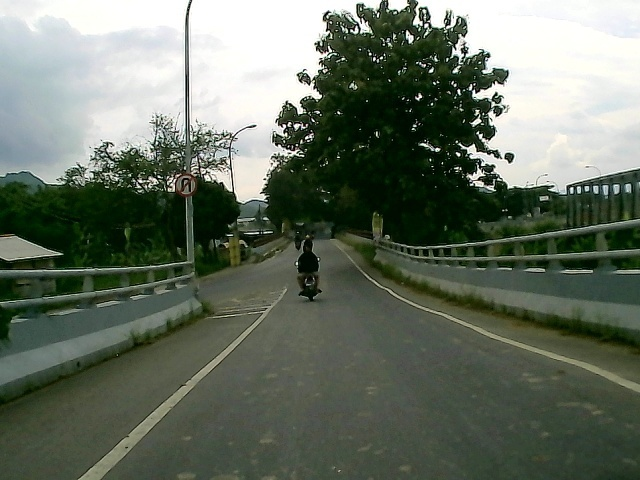Dilarang berbalik arah: (169, 172, 200, 199)
